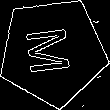M_E: (25, 25, 81, 78)
